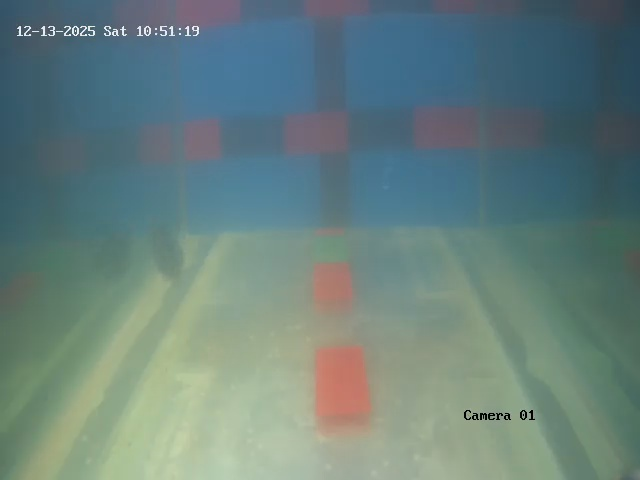fish: (142, 228, 189, 280)
